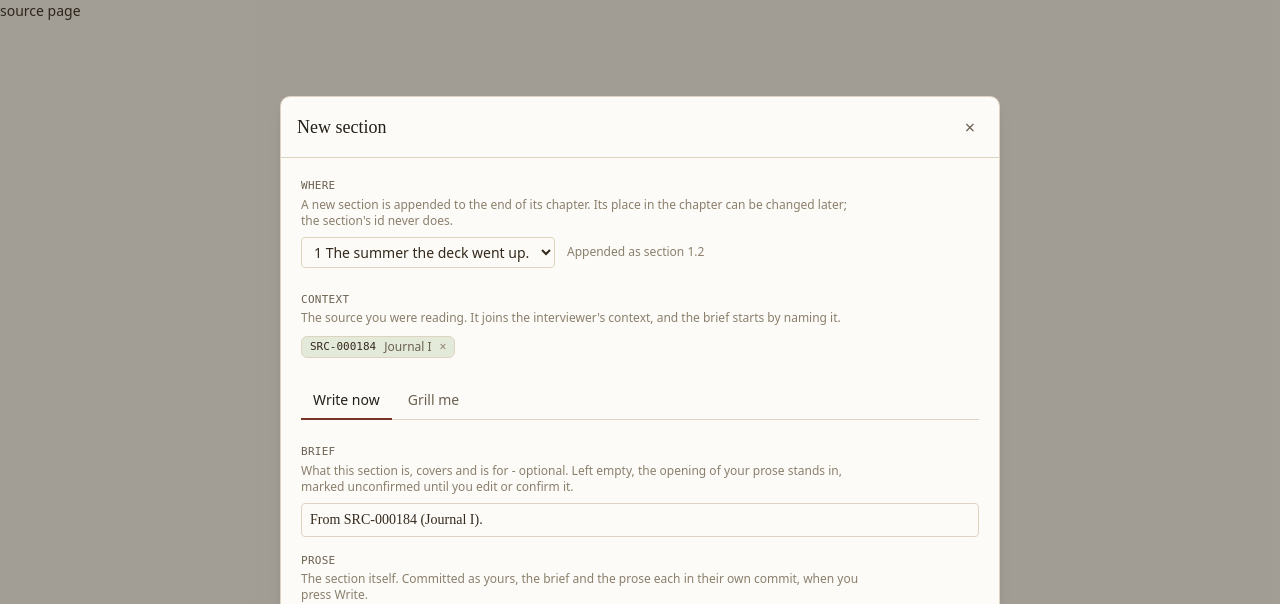
Test: a source in context › shows the source as a chip, starts the brief by naming it, and can be removed
Expected: the text "Journal I" is shown, [384, 339, 432, 355]
Expected: the text "SRC-000184" is shown, [310, 340, 376, 355]
Click the button named "Remove SRC-000184 from the context" at (443, 347), box [440, 339, 446, 355]
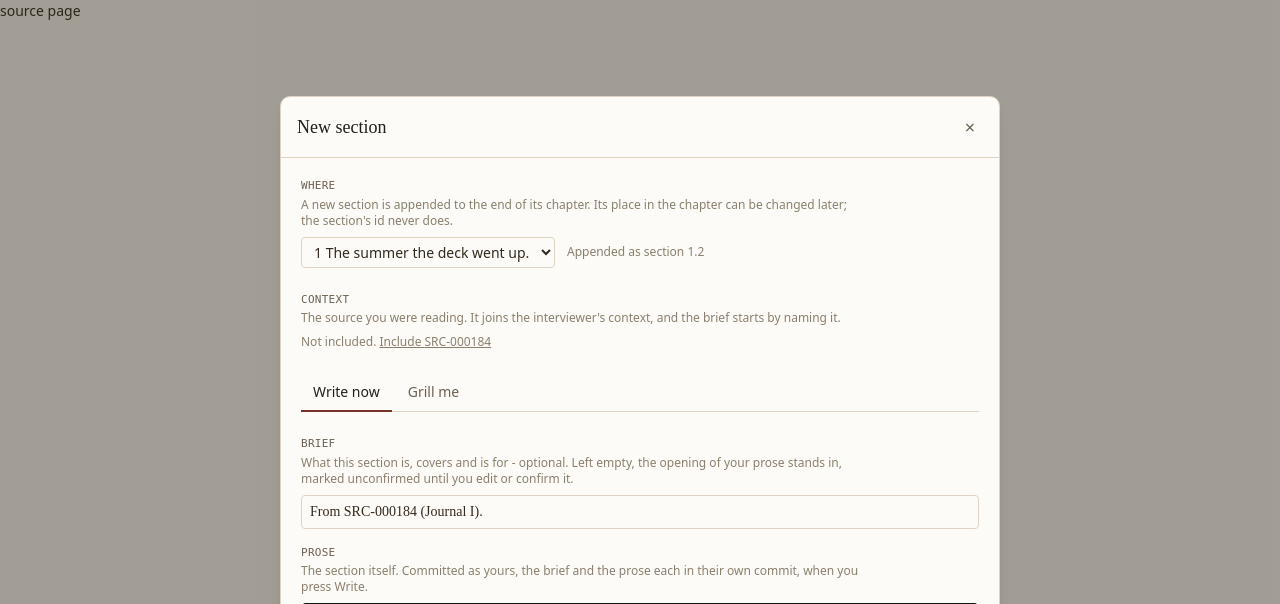
Result: the text "Not included." is shown at [301, 333, 376, 350]
